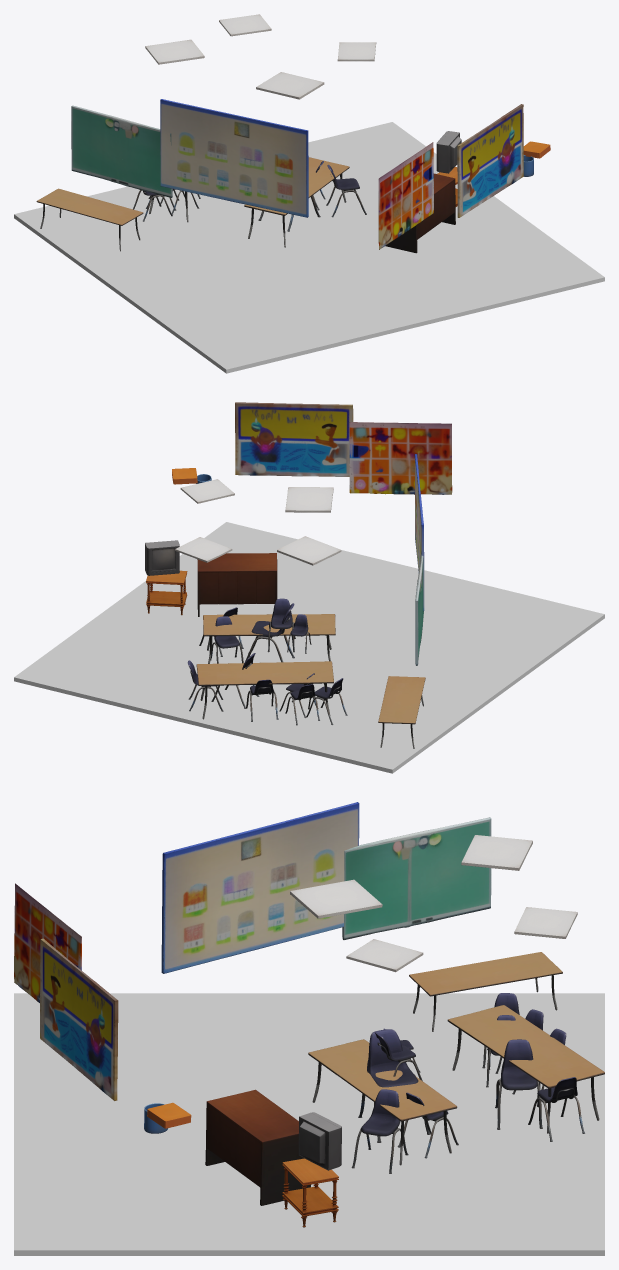
File: stage1.glb
3 renders of one model, top to bottom at view 1: azimuth 30°, elevation 25°; view 2: azimuth 150°, elevation 25°; view 3: azimuth 270°, elevation 25°, orthographic. The views are drawn at different scales.
Visible parts, largest first — view 1: floor, obj_24, obj_3, obj_7, obj_31, obj_9, obj_6, obj_17, obj_2, obj_1; view 2: floor, obj_7, obj_31, obj_6, obj_2, obj_17, obj_9, obj_12, obj_1, obj_24, obj_3; view 3: floor, obj_24, obj_6, obj_3, obj_2, obj_7, obj_17, obj_9, obj_31, obj_12, obj_1, obj_29.
Part boxes in pixels (box(x1,y1,x2,y2)): floor: box(14, 122, 604, 373); obj_24: box(160, 99, 308, 217); obj_3: box(71, 105, 172, 197); obj_7: box(457, 104, 523, 217); obj_31: box(378, 142, 433, 249); obj_9: box(145, 14, 376, 99); obj_6: box(36, 157, 349, 251); obj_17: box(385, 173, 455, 253); obj_2: box(133, 161, 366, 231); obj_1: box(436, 131, 461, 173); floor: box(14, 522, 604, 773); obj_7: box(235, 402, 353, 476); obj_31: box(349, 422, 452, 494); obj_6: box(196, 614, 425, 748); obj_2: box(187, 598, 347, 725); obj_17: box(197, 553, 277, 616); obj_9: box(175, 479, 341, 565); obj_12: box(146, 570, 187, 615); obj_1: box(145, 540, 179, 575); obj_24: box(414, 454, 424, 611); obj_3: box(415, 551, 423, 665); floor: box(14, 993, 604, 1255); obj_24: box(161, 802, 359, 973); obj_6: box(308, 952, 604, 1165); obj_3: box(342, 817, 491, 939); obj_2: box(351, 993, 584, 1173); obj_7: box(40, 938, 118, 1100); obj_17: box(205, 1089, 310, 1205); obj_9: box(290, 835, 577, 972); obj_31: box(14, 883, 81, 1002); obj_12: box(282, 1158, 338, 1227); obj_1: box(298, 1112, 341, 1170); obj_29: box(147, 1102, 191, 1128).
Bounding box in the file's own units: 0.9917 × 0.4269 × 0.9638.
12 materials, 12 textured.
